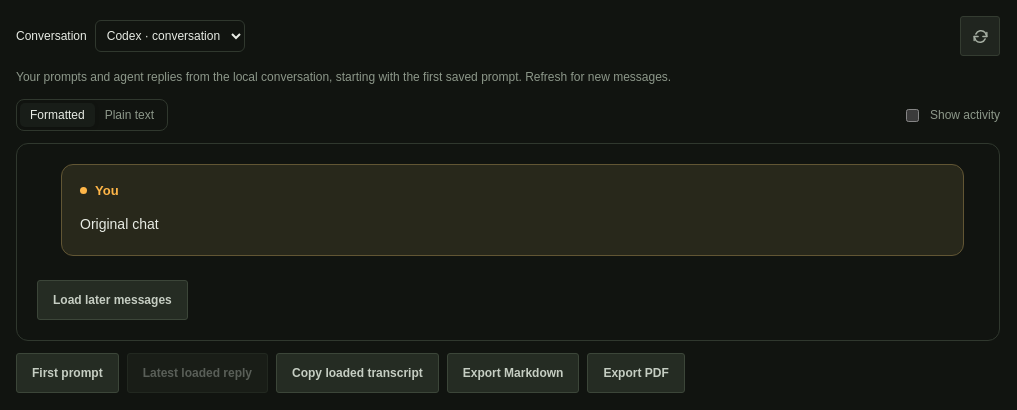
it: AgentTranscript › ignores a late page after switching recorded conversations
Expected: the text "Original chat" is shown, [80, 216, 159, 232]
Click the button "Load later messages" at (112, 300), box [37, 280, 188, 320]
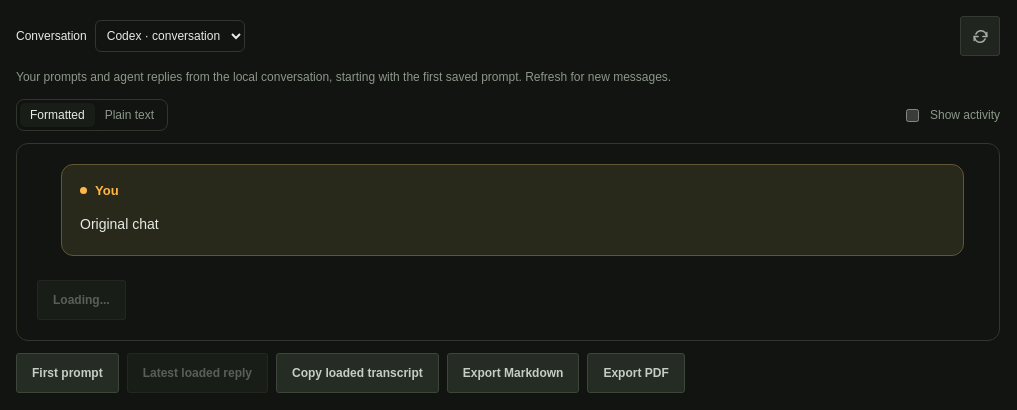
Select "Claude · other" in the dropdown named "Transcript conversation" at (170, 36), box [95, 20, 245, 52]
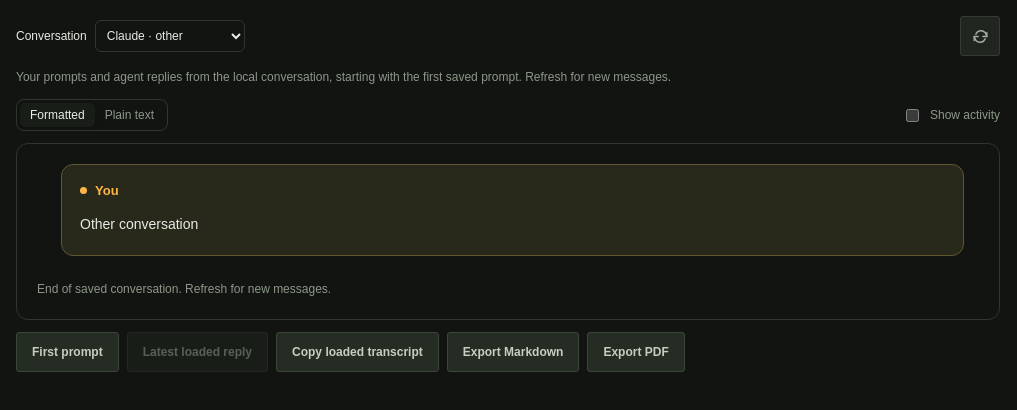
Expected: the text "Other conversation" is shown, [80, 216, 198, 232]
Expected: the text "Original chat" is gone
